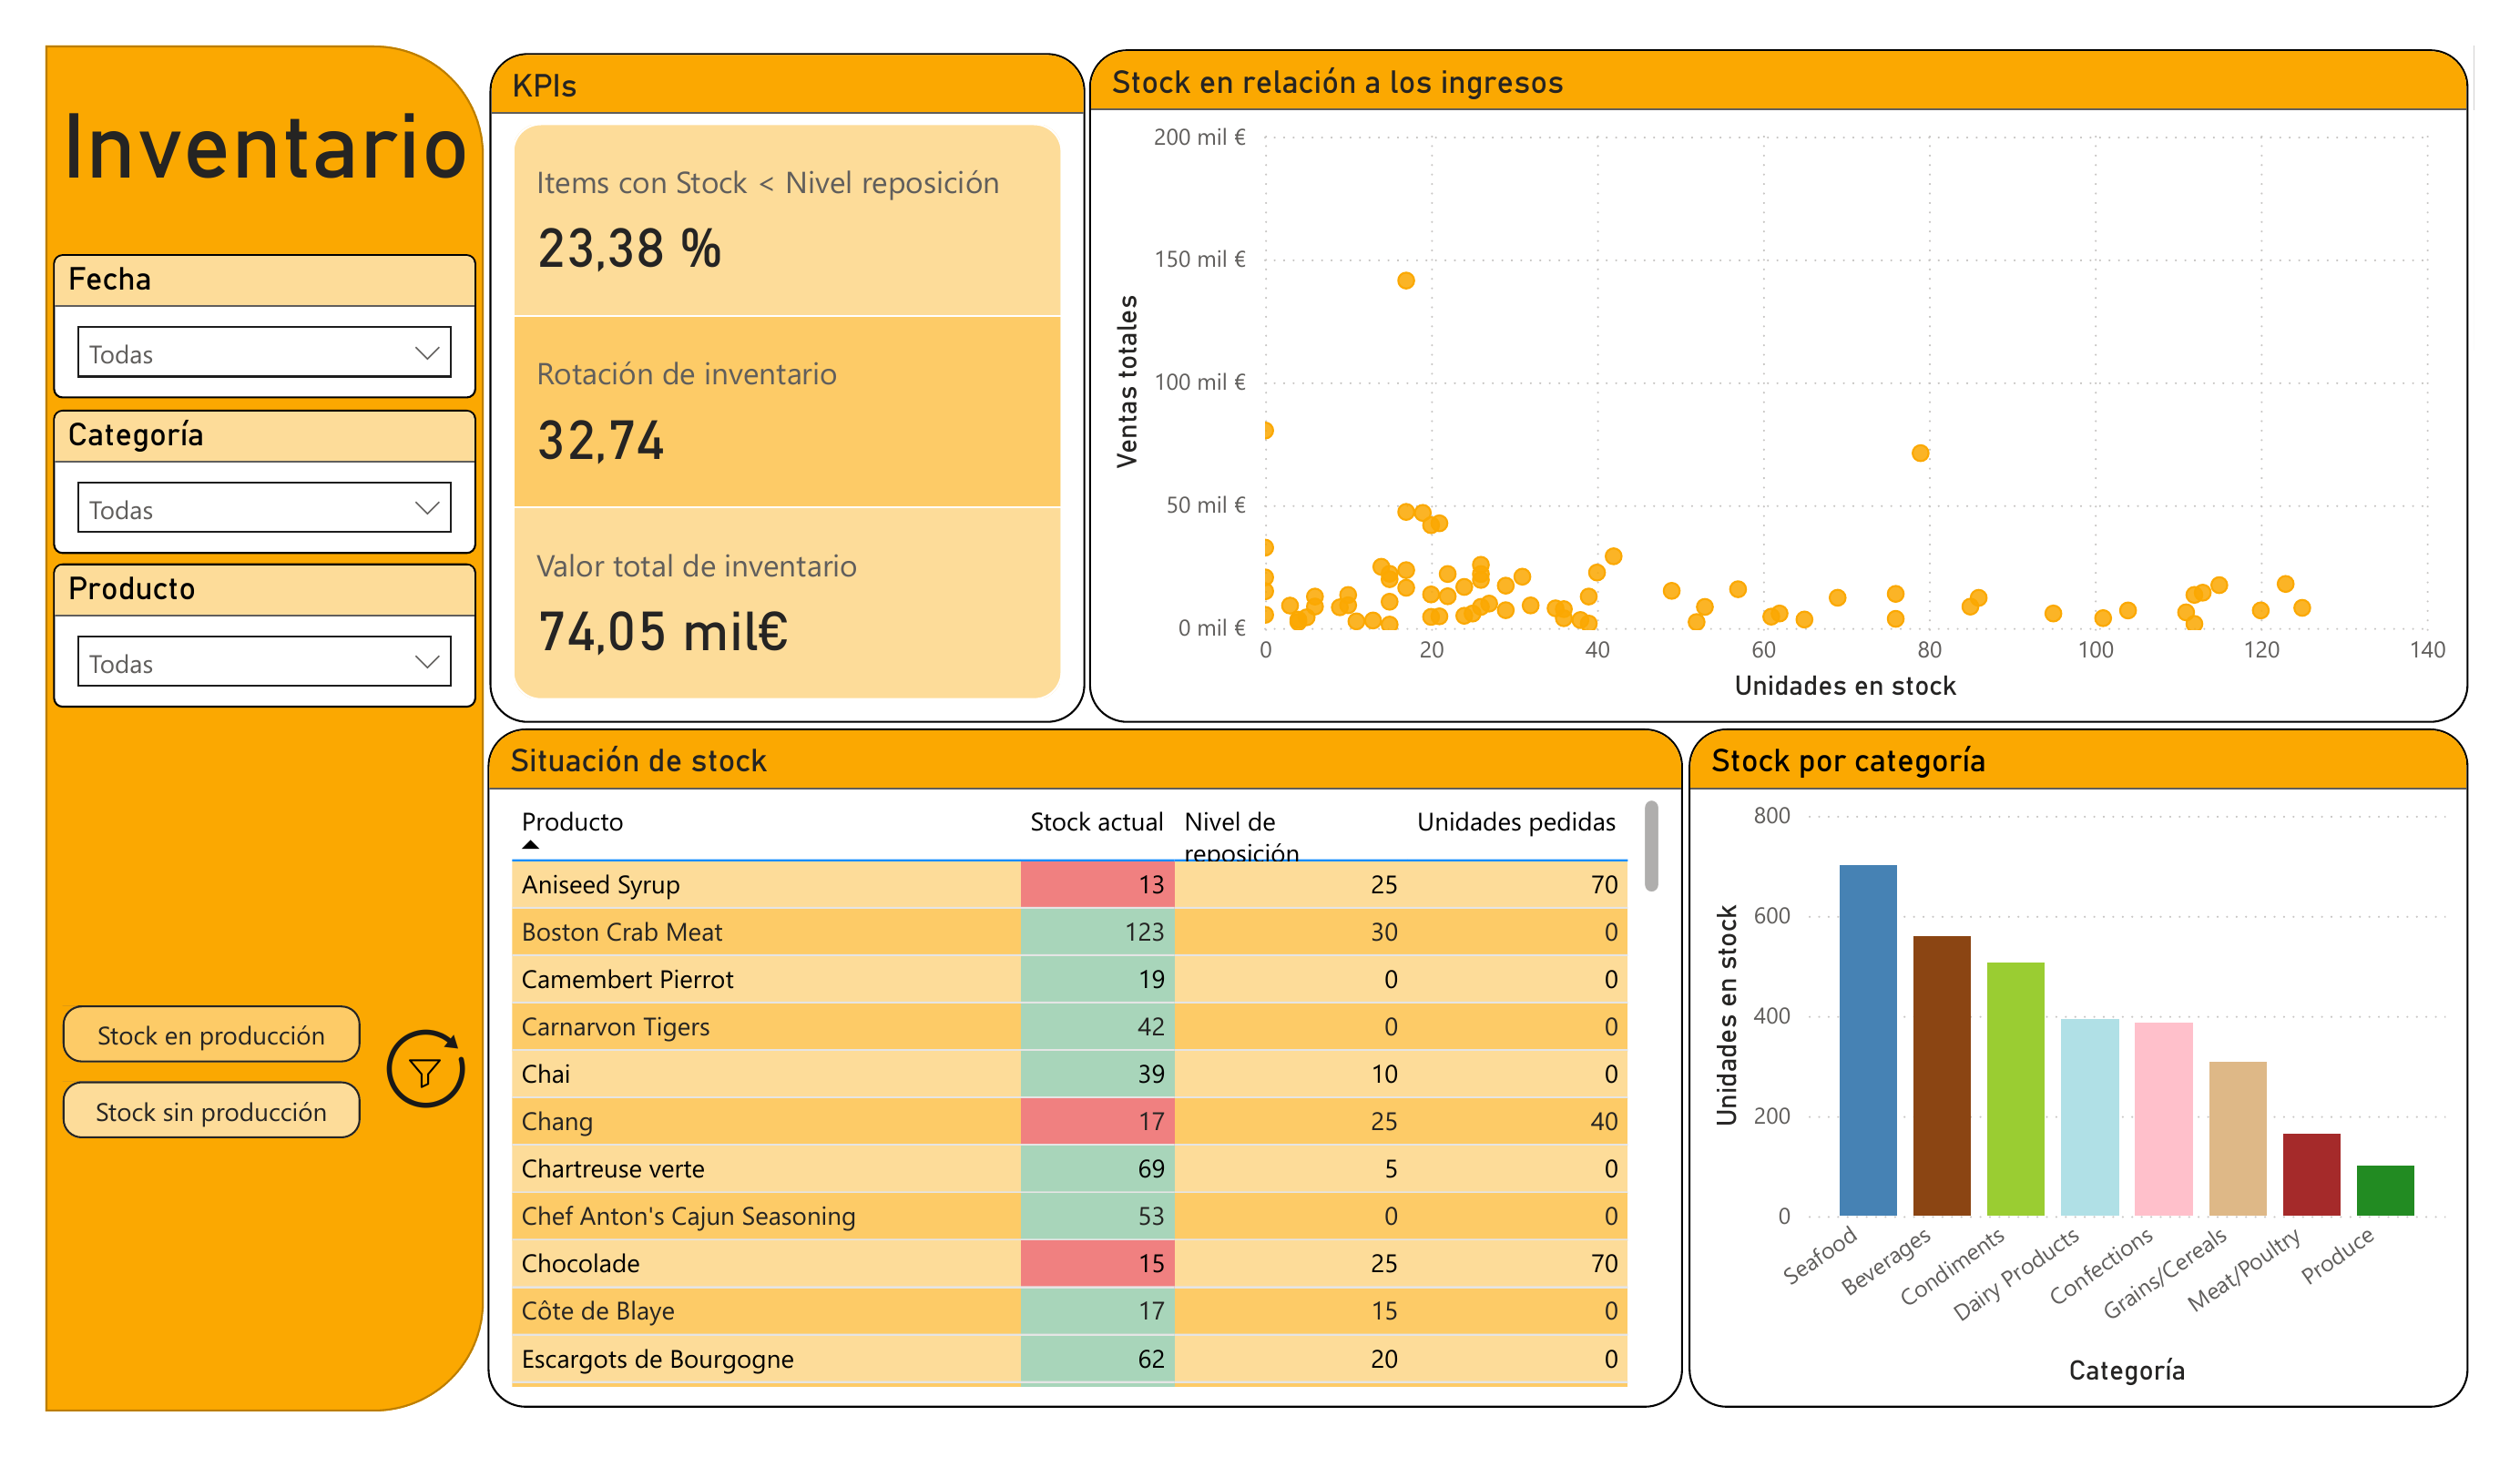

Layout of this report page (visuals, bound fields, positions):
{"tool":"powerbi","page":{"name":"Inventario","canvas":[1280,720],"ordinal":2},"visuals":[{"type":"scatterChart","title":"Stock en relación a los ingresos","fields":{"X":["Sum(Products.UnitsInStock)"],"Category":["Products.ProductName"],"Y":["Sum(Order_Details_Extended.ExtendedPrice)"]},"box":[549.7,2.5,727.6,354.6],"z":0},{"type":"cardVisual","title":"KPIs","fields":{"Data":["Medidas Dashboard de Inventario.Porcentaje bajo niv reposicion","Medidas Dashboard de Inventario.RotacionInventario","Medidas Dashboard de Inventario.Valor de inventario"]},"box":[233.7,4.1,313.8,352.6],"z":1000},{"type":"shape","box":[0,0,230.7,720.2],"z":2000},{"type":"slicer","title":"Fecha","fields":{"Values":["Calendar.Año Jerarquía.Año","Calendar.Año Jerarquía.Trimestre","Calendar.Año Jerarquía.Mes","Calendar.Año Jerarquía.Dia Mes y Semana"]},"box":[3.7,109.9,223.3,76.1],"z":3000},{"type":"textbox","box":[4.3,2.9,254.1,101.3],"z":4000},{"type":"slicer","title":"Categoría","fields":{"Values":["Categories.CategoryName"]},"box":[3.8,191.5,223.2,76],"z":5000},{"type":"slicer","title":"Producto","fields":{"Values":["Products.ProductName"]},"box":[3.6,273.1,223.2,76.4],"z":6000},{"type":"image","box":[187.1,527.6,26.2,27.5],"z":7000},{"type":"image","box":[170.9,505.8,58.8,66.2],"z":8000},{"type":"tableEx","title":"Situación de stock","fields":{"Values":["Products.ProductName","Sum(Products.UnitsInStock)","Sum(Products.ReorderLevel)","Sum(Products.UnitsOnOrder)"]},"box":[233,359.6,630,358.2],"z":9000},{"type":"bookmarkNavigator","box":[8.6,505.7,157.1,71.4],"z":11000},{"type":"clusteredColumnChart","title":"Stock por categoría","fields":{"Category":["Categories.CategoryName","Products.ProductName"],"Y":["Sum(Products.UnitsInStock)"]},"box":[866,359.6,411.4,358.2],"z":12000}]}

Visuals, with their boxes on the page's 1280x720 design canvas (x1, y1, x2, y2). These are canvas units, not pixel positions in the 2520x1457 screenshot, which may show the page scaled, cropped or inside an application window:
"Stock en relación a los ingresos" scatterChart: x1=550, y1=2, x2=1277, y2=357
"KPIs" cardVisual: x1=234, y1=4, x2=548, y2=357
shape: x1=0, y1=0, x2=231, y2=720
"Fecha" slicer: x1=4, y1=110, x2=227, y2=186
textbox: x1=4, y1=3, x2=258, y2=104
"Categoría" slicer: x1=4, y1=192, x2=227, y2=268
"Producto" slicer: x1=4, y1=273, x2=227, y2=350
image: x1=187, y1=528, x2=213, y2=555
image: x1=171, y1=506, x2=230, y2=572
"Situación de stock" tableEx: x1=233, y1=360, x2=863, y2=718
bookmarkNavigator: x1=9, y1=506, x2=166, y2=577
"Stock por categoría" clusteredColumnChart: x1=866, y1=360, x2=1277, y2=718
